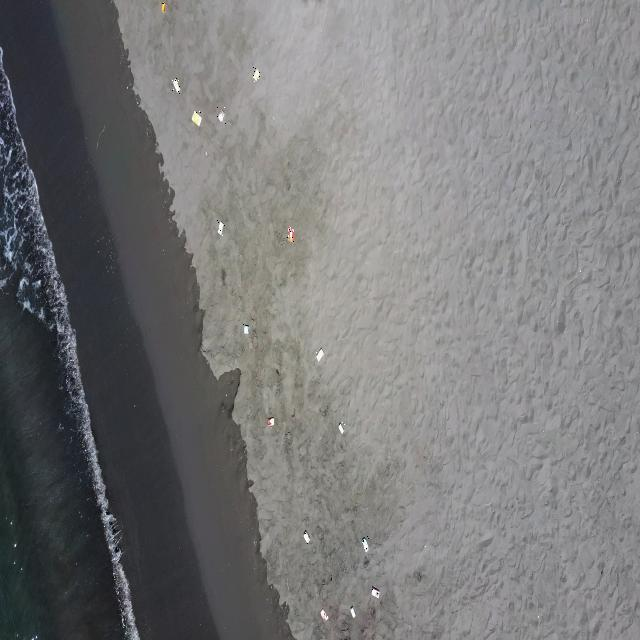Garbage: (191, 111, 200, 125), (216, 220, 223, 236), (360, 536, 367, 552), (172, 77, 179, 92), (316, 347, 324, 360), (253, 67, 260, 81), (371, 587, 380, 597), (287, 226, 293, 241), (320, 608, 327, 620), (266, 416, 273, 427), (216, 110, 223, 121), (303, 529, 308, 543), (337, 423, 344, 432), (160, 2, 166, 12), (350, 606, 355, 617), (243, 324, 248, 333), (204, 151, 207, 156)
